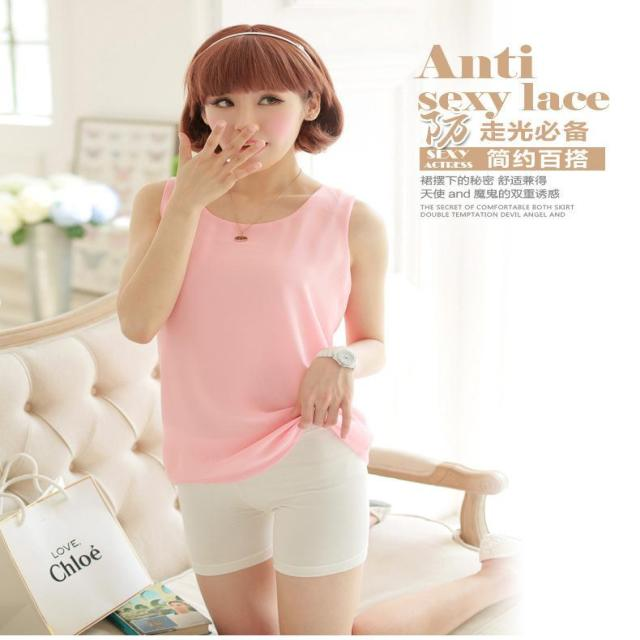shorts: (161, 427, 455, 606)
